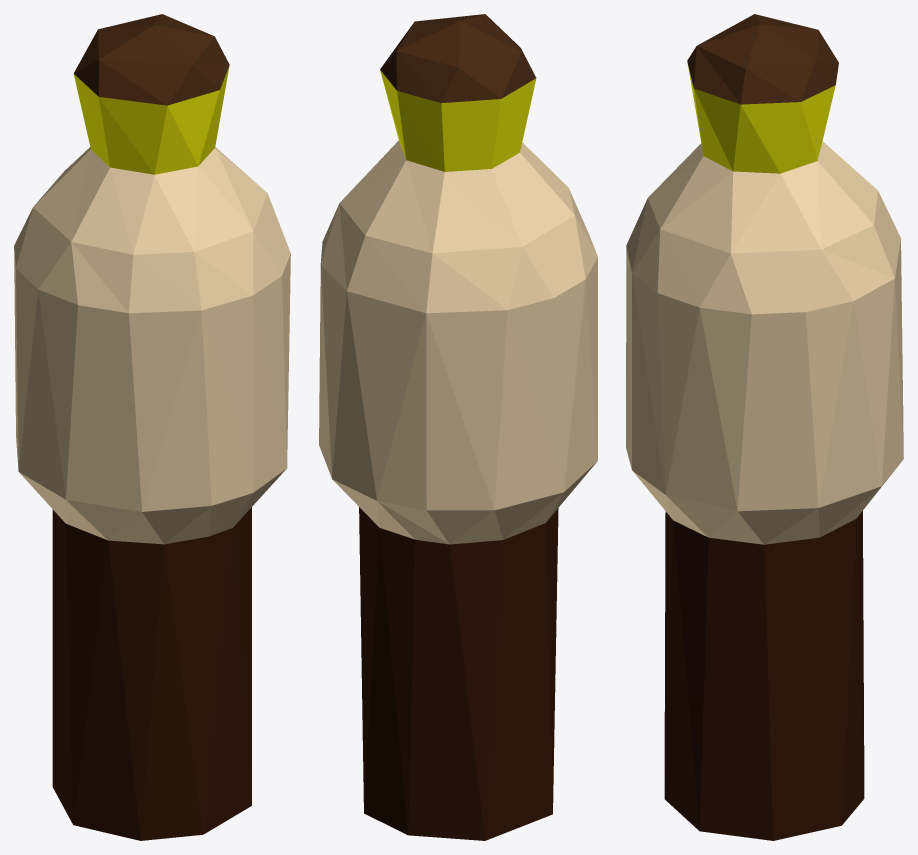
The model's file is spectator.glb.
3 renders of one model, left to right at view 1: azimuth 30°, elevation 25°; view 2: azimuth 150°, elevation 25°; view 3: azimuth 270°, elevation 25°, orthographic.
Visible parts, largest first — view 1: SpectatorLOD; view 2: SpectatorLOD; view 3: SpectatorLOD.
Boxes of the visible parts, x1=… form: SpectatorLOD: x1=14, y1=14, x2=290, y2=840; SpectatorLOD: x1=319, y1=14, x2=597, y2=840; SpectatorLOD: x1=626, y1=14, x2=903, y2=840.
Size of the model in its own units: 0.5255 by 1.62 by 0.5265.
